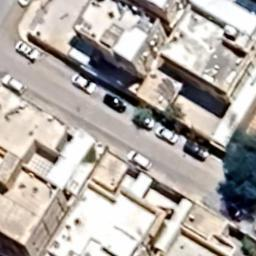sedan: (71, 72, 97, 94), (126, 149, 153, 170), (14, 40, 40, 60), (103, 93, 126, 114), (154, 125, 178, 144), (132, 112, 155, 130)
van: (0, 72, 28, 96), (182, 140, 210, 162)
